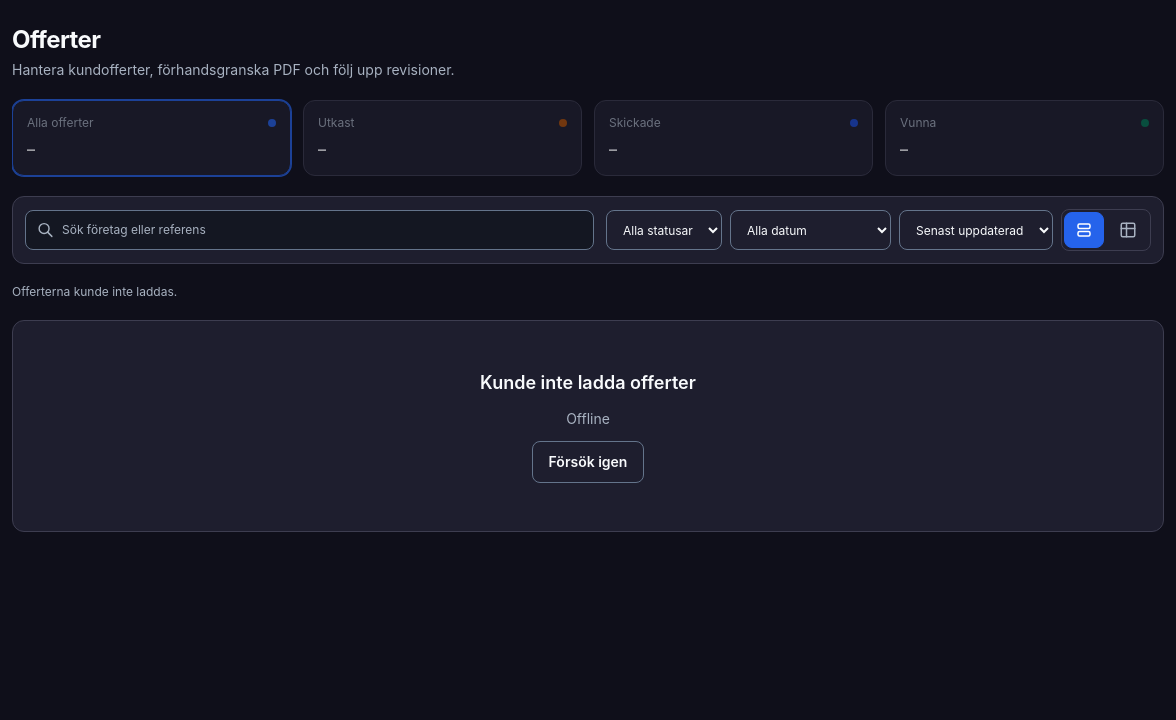
Scenario: Offerter redesign › distinguishes an empty collection and retries a failed load
expect the message shows "Offline": met, box left=566, top=410, right=610, bottom=427
Step 1. Click the button "Försök igen" → (588,462), box left=532, top=441, right=644, bottom=483
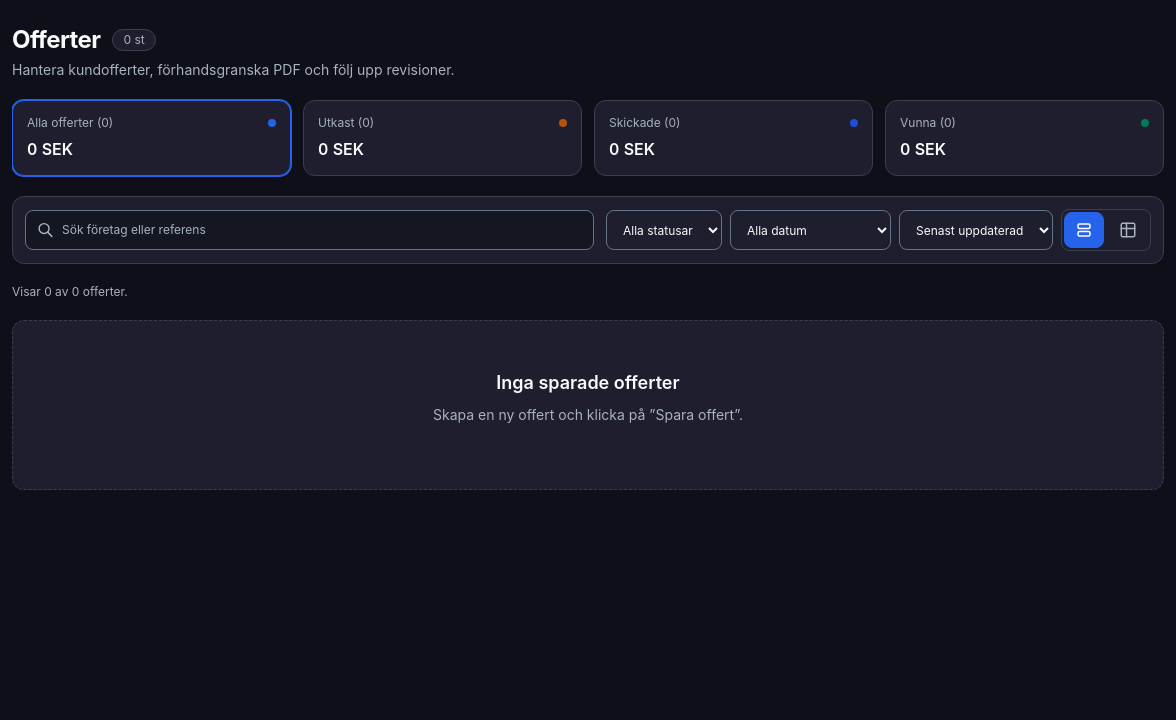
expect the heading "Inga sparade offerter" is shown: met, box left=496, top=372, right=680, bottom=393
